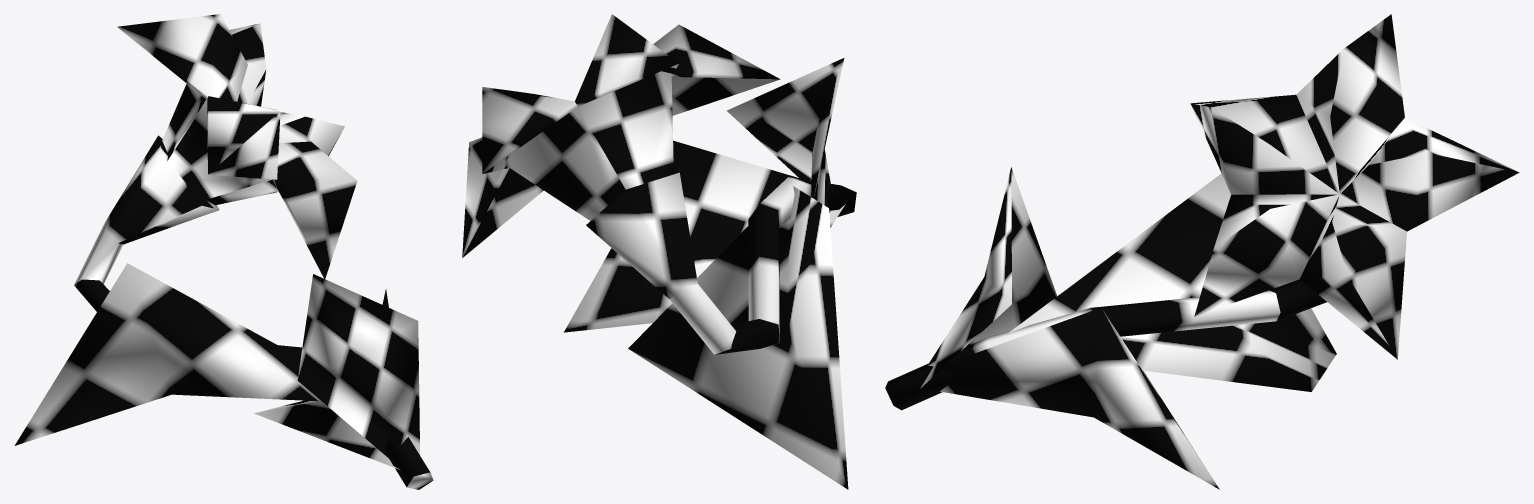
Rendered from initqu48.dae.
The picture shows the model from 3 angles, left to right: view 1: azimuth 30°, elevation 25°; view 2: azimuth 150°, elevation 25°; view 3: azimuth 270°, elevation 25°; orthographic projection. The views are drawn at different scales.
Visible parts, largest first — view 1: item; view 2: item; view 3: item.
Boxes of the visible parts, x1,y1,x2,y2 form: item: [14, 14, 433, 489]; item: [462, 14, 856, 489]; item: [885, 14, 1519, 489].
Bounding box in the file's own units: 1.13 × 1.67 × 1.22.
Materials: 1 (1 with a texture image).
